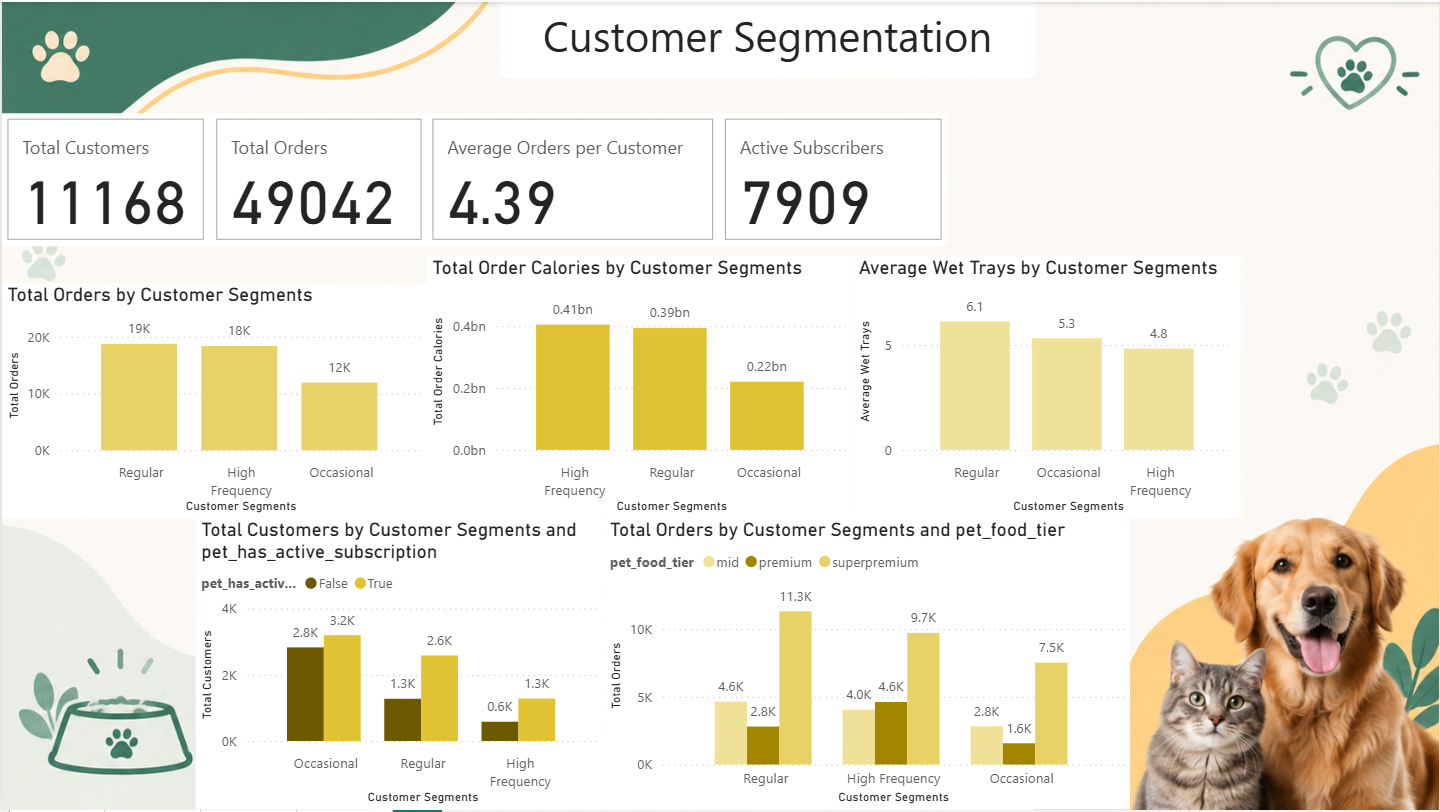

Layout of this report page (visuals, bound fields, positions):
{"tool":"powerbi","page":{"name":"Page 3","canvas":[1280,720],"ordinal":2},"visuals":[{"type":"cardVisual","fields":{"Data":["pet_food_customer_orders_cleaned.Total Customers"]},"box":[0,99.2,185.6,118.2],"z":0},{"type":"cardVisual","fields":{"Data":["pet_food_customer_orders_cleaned.Total Orders"]},"box":[185.6,99.2,193.2,118.2],"z":1000},{"type":"cardVisual","fields":{"Data":["pet_food_customer_orders_cleaned.Average Orders per Customer"]},"box":[378.9,99.2,260.6,118.2],"z":2000},{"type":"cardVisual","fields":{"Data":["pet_food_customer_orders_cleaned.Active Subscribers"]},"box":[639.5,99.2,203.4,118.2],"z":3000},{"type":"clusteredColumnChart","fields":{"Y":["pet_food_customer_orders_cleaned.Total Orders"],"Category":["pet_food_customer_orders_cleaned.Customer Segments"]},"box":[0,250.5,378.9,209.8],"z":4000},{"type":"clusteredColumnChart","fields":{"Y":["pet_food_customer_orders_cleaned.Total Order Calories"],"Category":["pet_food_customer_orders_cleaned.Customer Segments"]},"box":[378.9,226.3,378.9,233.9],"z":5000},{"type":"clusteredColumnChart","fields":{"Category":["pet_food_customer_orders_cleaned.Customer Segments"],"Y":["pet_food_customer_orders_cleaned.Average Wet Trays"]},"box":[757.7,226.3,344.5,233.9],"z":6000},{"type":"clusteredColumnChart","fields":{"Series":["pet_food_customer_orders_cleaned.pet_has_active_subscription"],"Category":["pet_food_customer_orders_cleaned.Customer Segments"],"Y":["pet_food_customer_orders_cleaned.Total Customers"]},"box":[172.9,460.2,363.6,259.4],"z":7000},{"type":"clusteredColumnChart","fields":{"Category":["pet_food_customer_orders_cleaned.Customer Segments"],"Y":["pet_food_customer_orders_cleaned.Total Orders"],"Series":["pet_food_customer_orders_cleaned.pet_food_tier"]},"box":[536.5,460.2,467.9,259.4],"z":8000},{"type":"textbox","box":[442.6,0,477.4,66.9],"z":8001}]}

Visuals, with their boxes in screenshot pixels (x1, y1, x2, y2), scaled from the page's 1280x720 canvas onto the 1440x812 screenshot:
cardVisual - pet_food_customer_orders_cleaned.Total Customers: l=0, t=112, r=209, b=245
cardVisual - pet_food_customer_orders_cleaned.Total Orders: l=209, t=112, r=426, b=245
cardVisual - pet_food_customer_orders_cleaned.Average Orders per Customer: l=426, t=112, r=719, b=245
cardVisual - pet_food_customer_orders_cleaned.Active Subscribers: l=719, t=112, r=948, b=245
clusteredColumnChart - pet_food_customer_orders_cleaned.Total Orders x pet_food_customer_orders_cleaned.Customer Segments: l=0, t=283, r=426, b=519
clusteredColumnChart - pet_food_customer_orders_cleaned.Total Order Calories x pet_food_customer_orders_cleaned.Customer Segments: l=426, t=255, r=853, b=519
clusteredColumnChart - pet_food_customer_orders_cleaned.Customer Segments x pet_food_customer_orders_cleaned.Average Wet Trays: l=852, t=255, r=1240, b=519
clusteredColumnChart - pet_food_customer_orders_cleaned.pet_has_active_subscription x pet_food_customer_orders_cleaned.Customer Segments: l=195, t=519, r=604, b=811
clusteredColumnChart - pet_food_customer_orders_cleaned.Customer Segments x pet_food_customer_orders_cleaned.Total Orders: l=604, t=519, r=1130, b=811
textbox: l=498, t=0, r=1035, b=75
